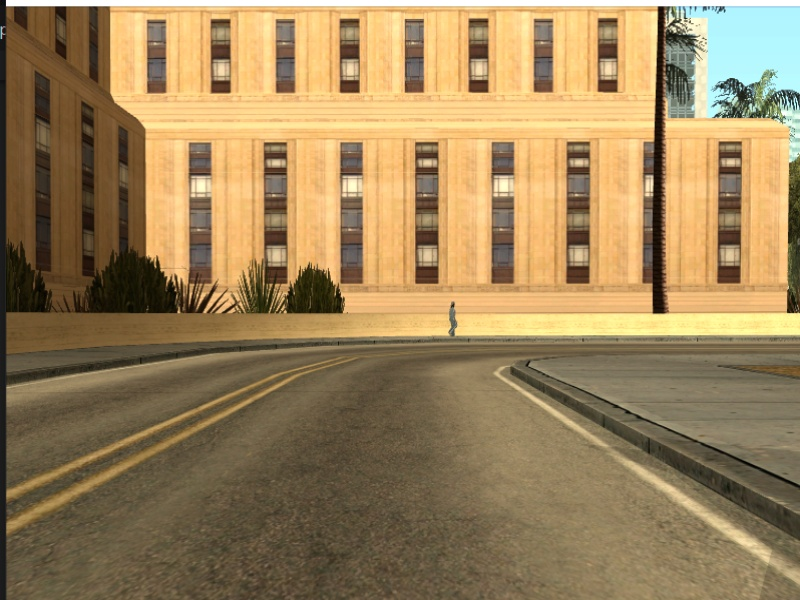person: (445, 300, 463, 336)
tree: (650, 8, 675, 315)
